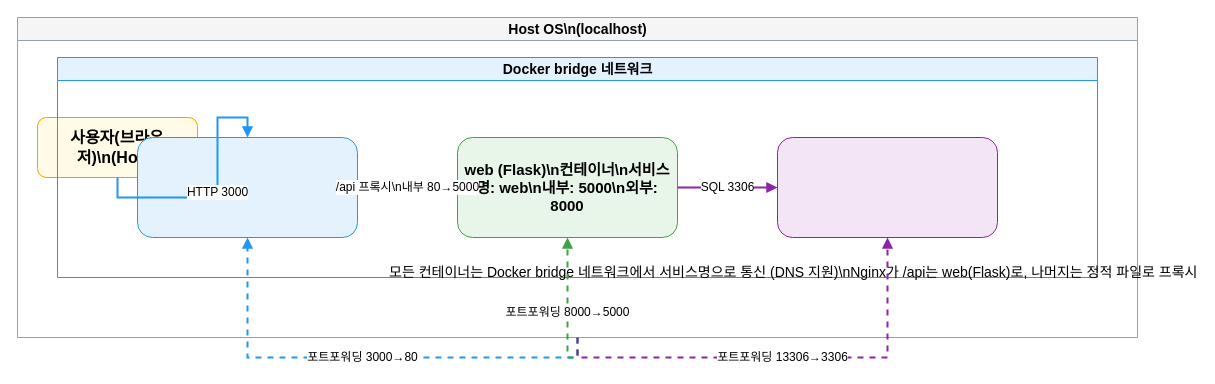
This 1215x384 diagram has some shape labels left out. Each missing label, with the centre of its shape:
db (MySQL)\n컨테이너\n서비스명: db\n내부: 3306\n외부: 13306: the point at 887,187
frontend (Nginx+React)\n컨테이너\n서비스명: frontend\n내부: 80\n외부: 3000: the point at 247,187
